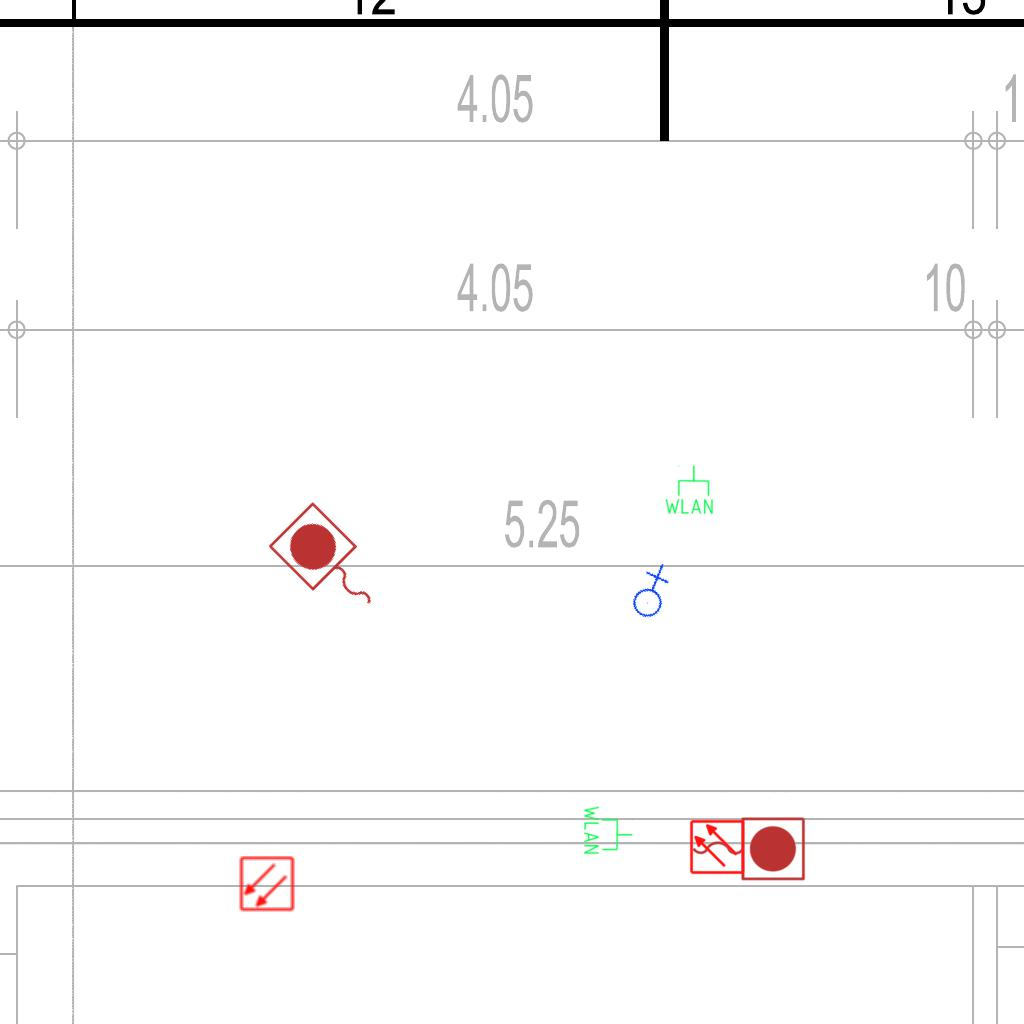Elektroanschluss_allgemein_230V_Geraeteanschlussdose_230V: (617, 561, 682, 624)
RMO_Rauchmelder_optischer: (239, 856, 295, 912), (689, 819, 745, 875)
WLAN: (582, 804, 634, 856), (663, 464, 715, 516)
Zugtaster: (261, 496, 399, 634), (687, 812, 809, 884)
